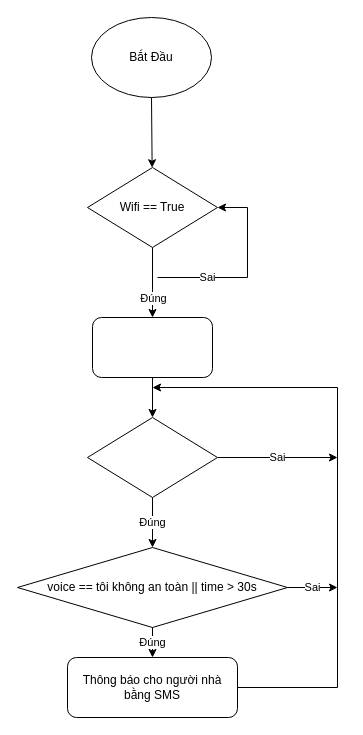
This 363x735 diagram has some shape labels left out. The centre of each missing label's shape, as x and y in pixels:
"giatri == 1" goes at (x=152, y=457).
"Kết nối FireBase" goes at (x=152, y=347).
